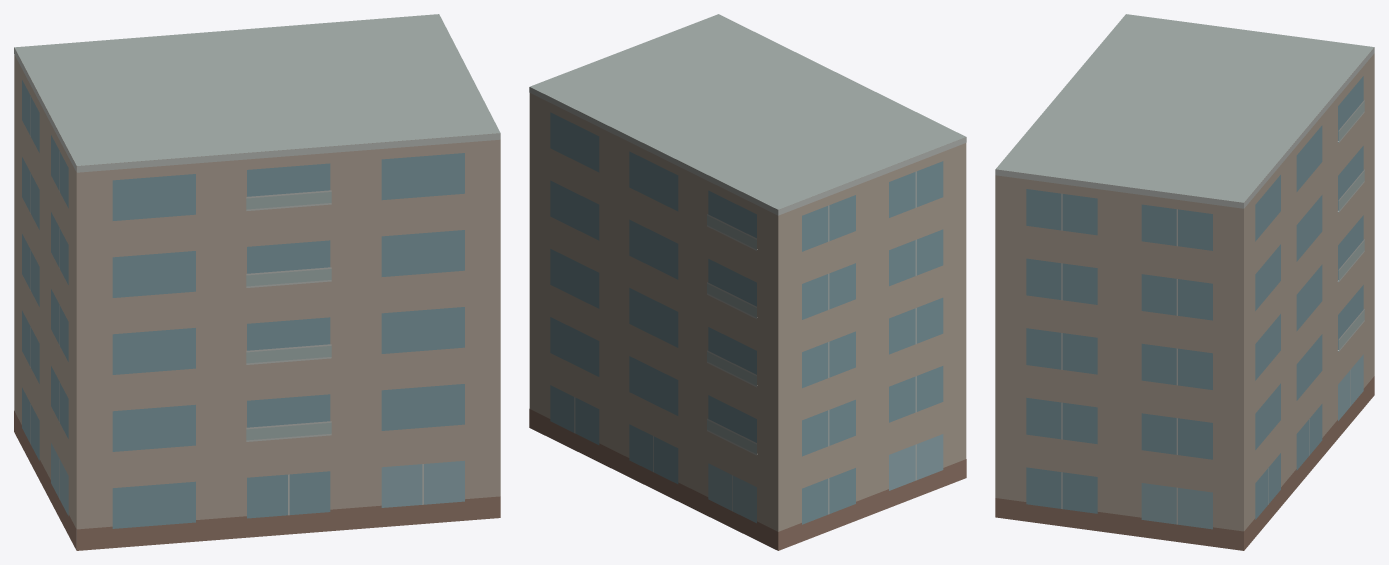
Rendered from survey-upis-32959625.glb.
3 views of the same model, side by side, from view 1: azimuth 30°, elevation 25°; view 2: azimuth 150°, elevation 25°; view 3: azimuth 270°, elevation 25° (orthographic). The views are drawn at different scales.
Visible parts, largest first — view 1: survey-upis-32959625.tmp; view 2: survey-upis-32959625.tmp; view 3: survey-upis-32959625.tmp.
Part boxes in pixels (x1,y1,x2,y2): survey-upis-32959625.tmp: [14, 14, 500, 550]; survey-upis-32959625.tmp: [529, 14, 966, 550]; survey-upis-32959625.tmp: [995, 14, 1374, 550].
Size of the model in its own units: 16.53 by 14.2 by 14.03.
